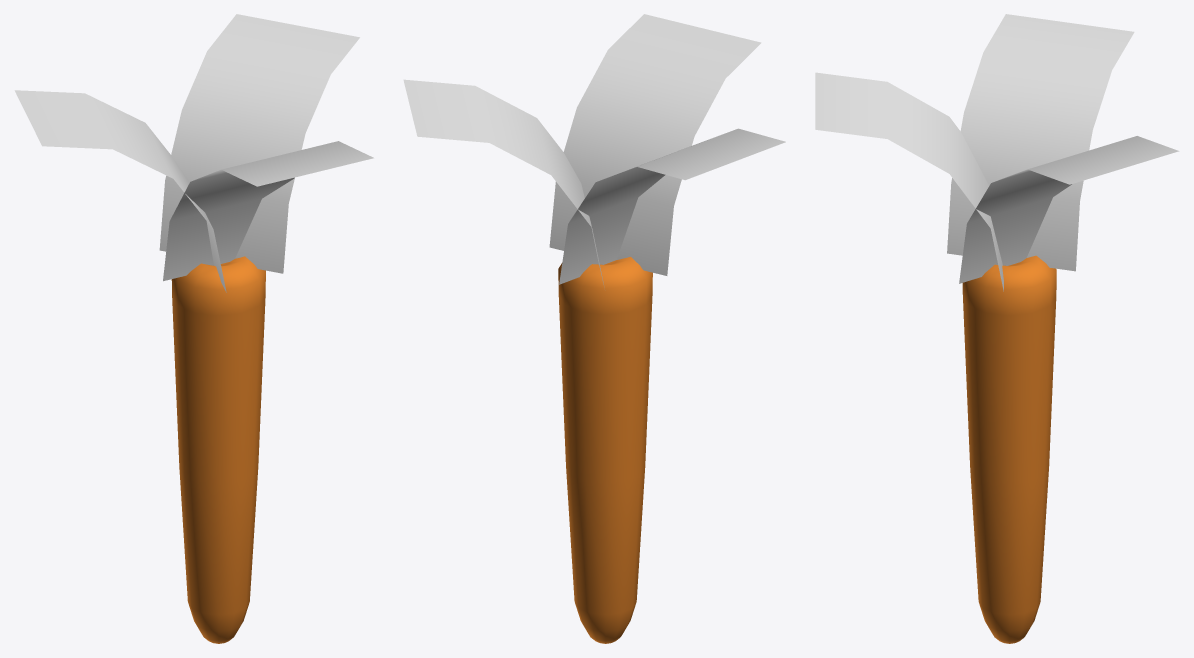
Rendered from Carrot01.fbx.
3 views of the same model, side by side, from view 1: azimuth 30°, elevation 25°; view 2: azimuth 150°, elevation 25°; view 3: azimuth 270°, elevation 25° (orthographic).
Visible parts, largest first — view 1: CarrotLeaf, Carrot01; view 2: CarrotLeaf, Carrot01; view 3: CarrotLeaf, Carrot01.
Part boxes in pixels (x1,y1,x2,y2): CarrotLeaf: (14,14,373,292); Carrot01: (171,256,265,643); CarrotLeaf: (403,14,785,287); Carrot01: (558,257,652,643); CarrotLeaf: (815,14,1179,291); Carrot01: (962,255,1056,643).
Size of the model in its own units: 8.55 by 12.66 by 7.7.
